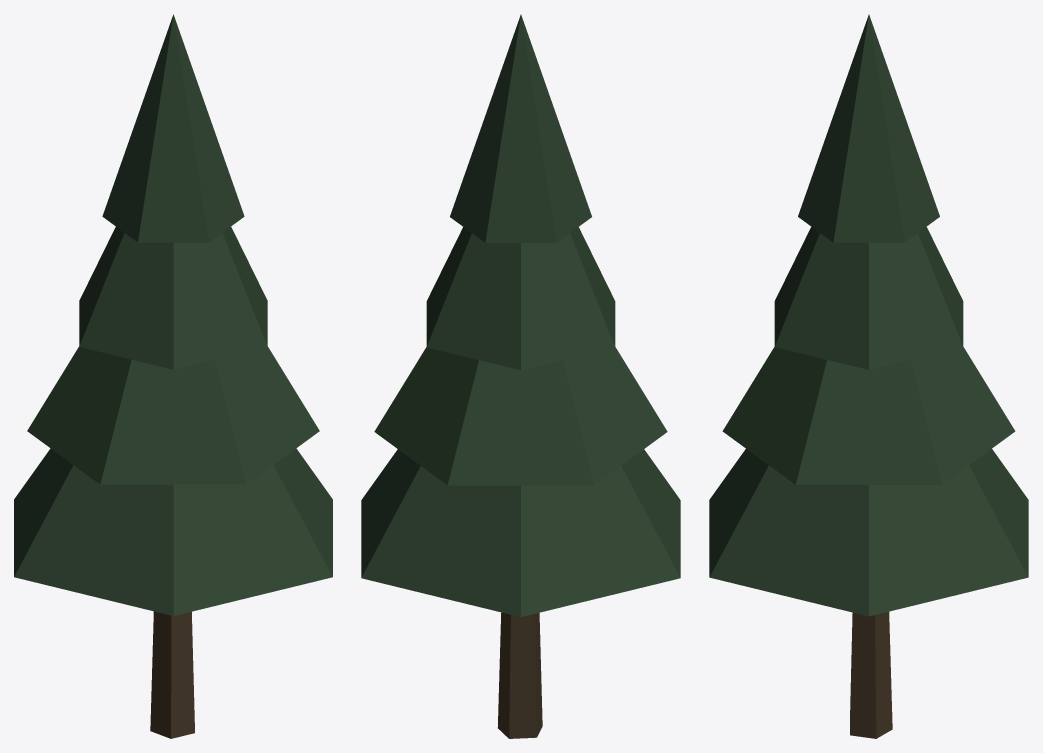
File: flora_cone_mid.glb
The picture shows the model from 3 angles, left to right: view 1: azimuth 30°, elevation 25°; view 2: azimuth 150°, elevation 25°; view 3: azimuth 270°, elevation 25°; orthographic projection.
Visible parts, largest first — view 1: FLORA_ConeCrown_Mid, FLORA_ConeTrunk_Mid; view 2: FLORA_ConeCrown_Mid, FLORA_ConeTrunk_Mid; view 3: FLORA_ConeCrown_Mid, FLORA_ConeTrunk_Mid.
Part boxes in pixels (x1,y1,x2,y2): FLORA_ConeCrown_Mid: (14,14,332,615); FLORA_ConeTrunk_Mid: (150,611,194,738); FLORA_ConeCrown_Mid: (361,14,680,616); FLORA_ConeTrunk_Mid: (497,612,542,738); FLORA_ConeCrown_Mid: (709,14,1028,616); FLORA_ConeTrunk_Mid: (850,611,892,738).
Bounding box in the file's own units: 14 × 30 × 12.12.
